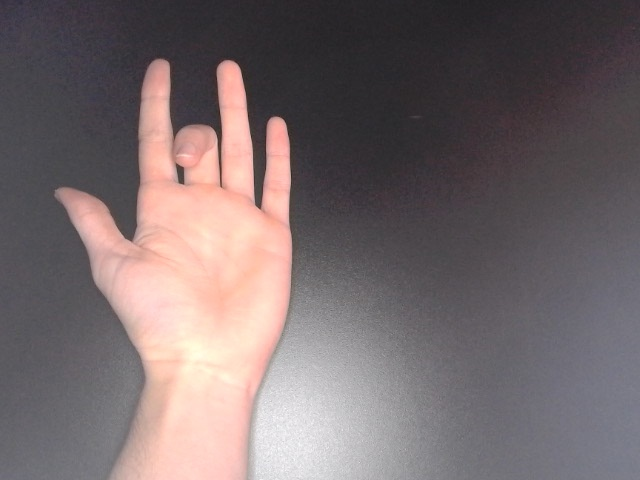reset: (49, 52, 301, 404)
